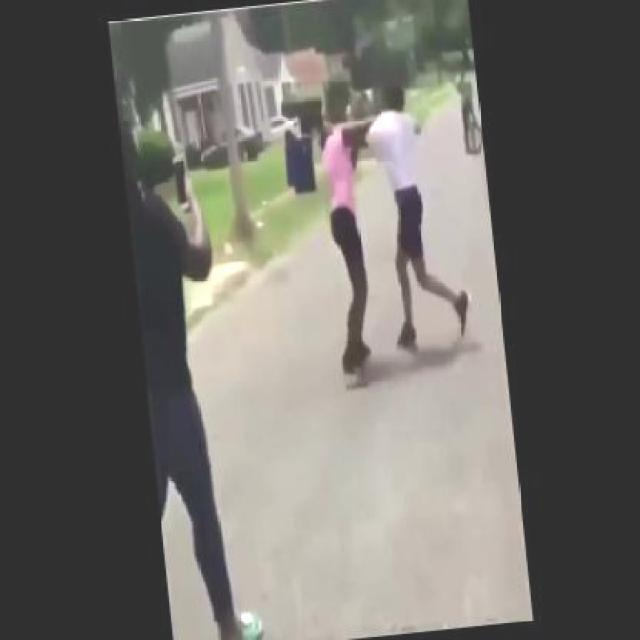fight: (312, 81, 448, 370)
